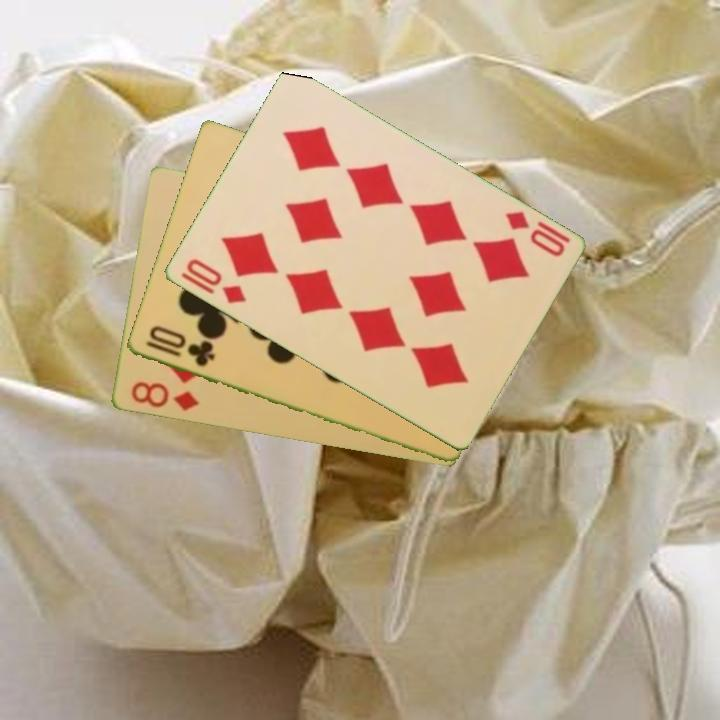10c: (141, 323, 217, 370)
10d: (501, 207, 568, 260), (181, 255, 249, 307)
8d: (127, 378, 201, 414)
